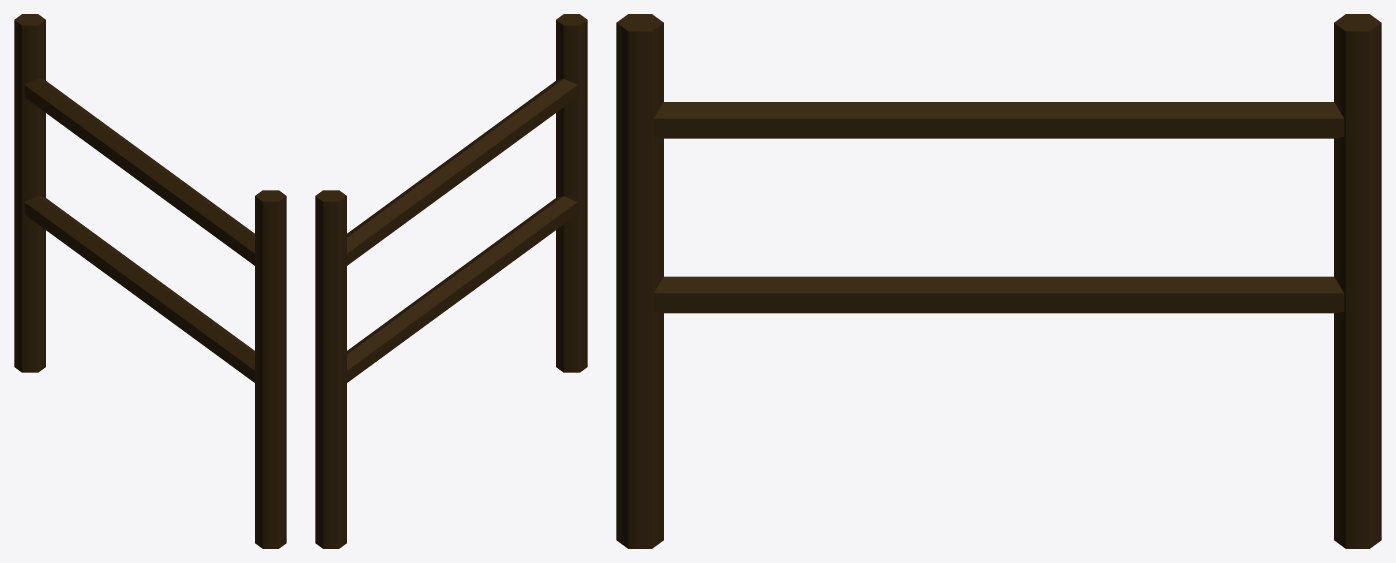
Rendered from Fence.fbx.
3 views of the same model, side by side, from view 1: azimuth 30°, elevation 25°; view 2: azimuth 150°, elevation 25°; view 3: azimuth 270°, elevation 25° (orthographic). The views are drawn at different scales.
Visible parts, largest first — view 1: Fence; view 2: Fence; view 3: Fence.
Part boxes in pixels (x1,y1,x2,y2): Fence: [14, 14, 286, 548]; Fence: [315, 14, 587, 548]; Fence: [616, 14, 1381, 548].
Size of the model in its own units: 0.0843 by 1.17 by 1.57.
